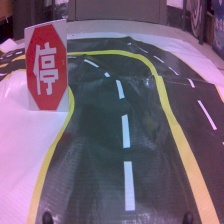stop: (23, 18, 72, 113)
